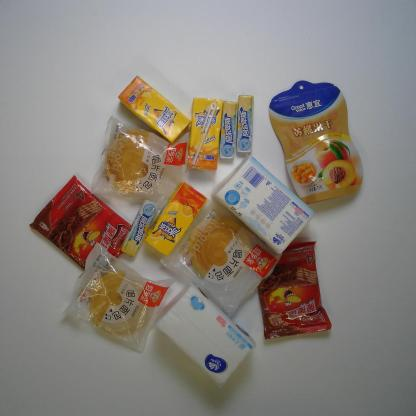Candy: (119, 197, 160, 260), (216, 99, 240, 160), (233, 91, 255, 155)
Dessert: (155, 194, 281, 319), (59, 241, 177, 353), (29, 175, 135, 279), (89, 116, 190, 204), (254, 238, 334, 341)
Dried Fruit: (266, 80, 364, 205)
Drink: (116, 75, 192, 144), (145, 177, 207, 259), (187, 96, 226, 171)
Tissue: (152, 278, 259, 389), (210, 153, 316, 255)
